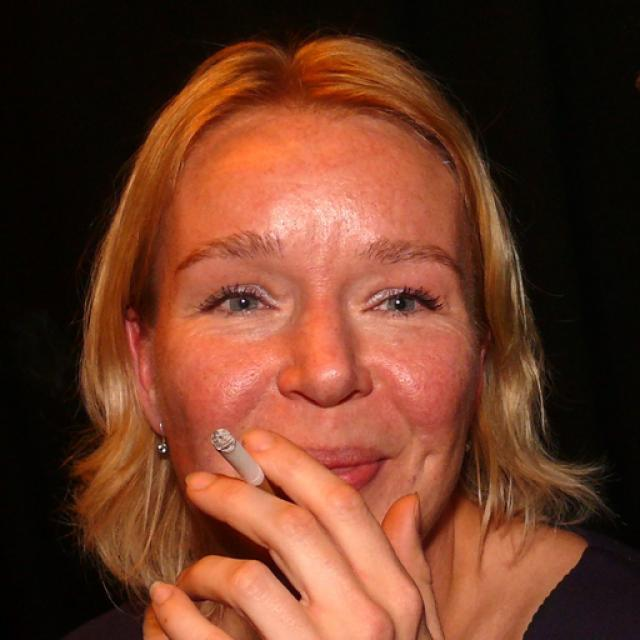happy: (153, 113, 481, 569)
